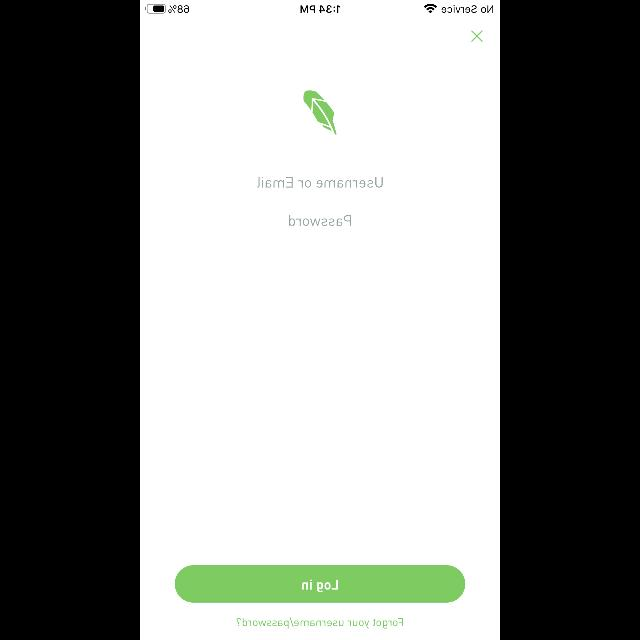icon: (472, 30, 482, 42)
image: (304, 90, 336, 134)
input: (257, 176, 383, 188)
text: (237, 618, 403, 628), (289, 215, 351, 225)
textbutton: (175, 566, 465, 602)
uppertaskbar: (140, 0, 500, 14)
